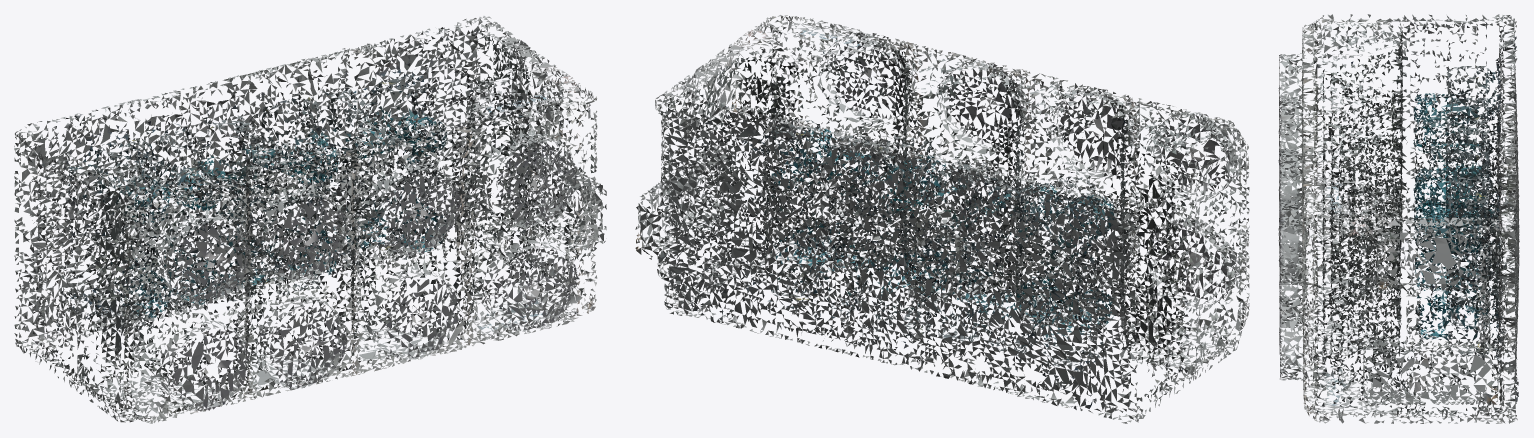
The model's file is test_adaptive.glb.
3 views of the same model, side by side, from view 1: azimuth 30°, elevation 25°; view 2: azimuth 150°, elevation 25°; view 3: azimuth 270°, elevation 25° (orthographic). The views are drawn at different scales.
Parts seen in each view (by area): view 1: world; view 2: world; view 3: world.
Part boxes in pixels (x1,y1,x2,y2): world: (14, 16, 606, 423); world: (635, 15, 1249, 423); world: (1278, 14, 1519, 423).
Size of the model in its own units: 0.9936 by 0.4082 by 0.445.
